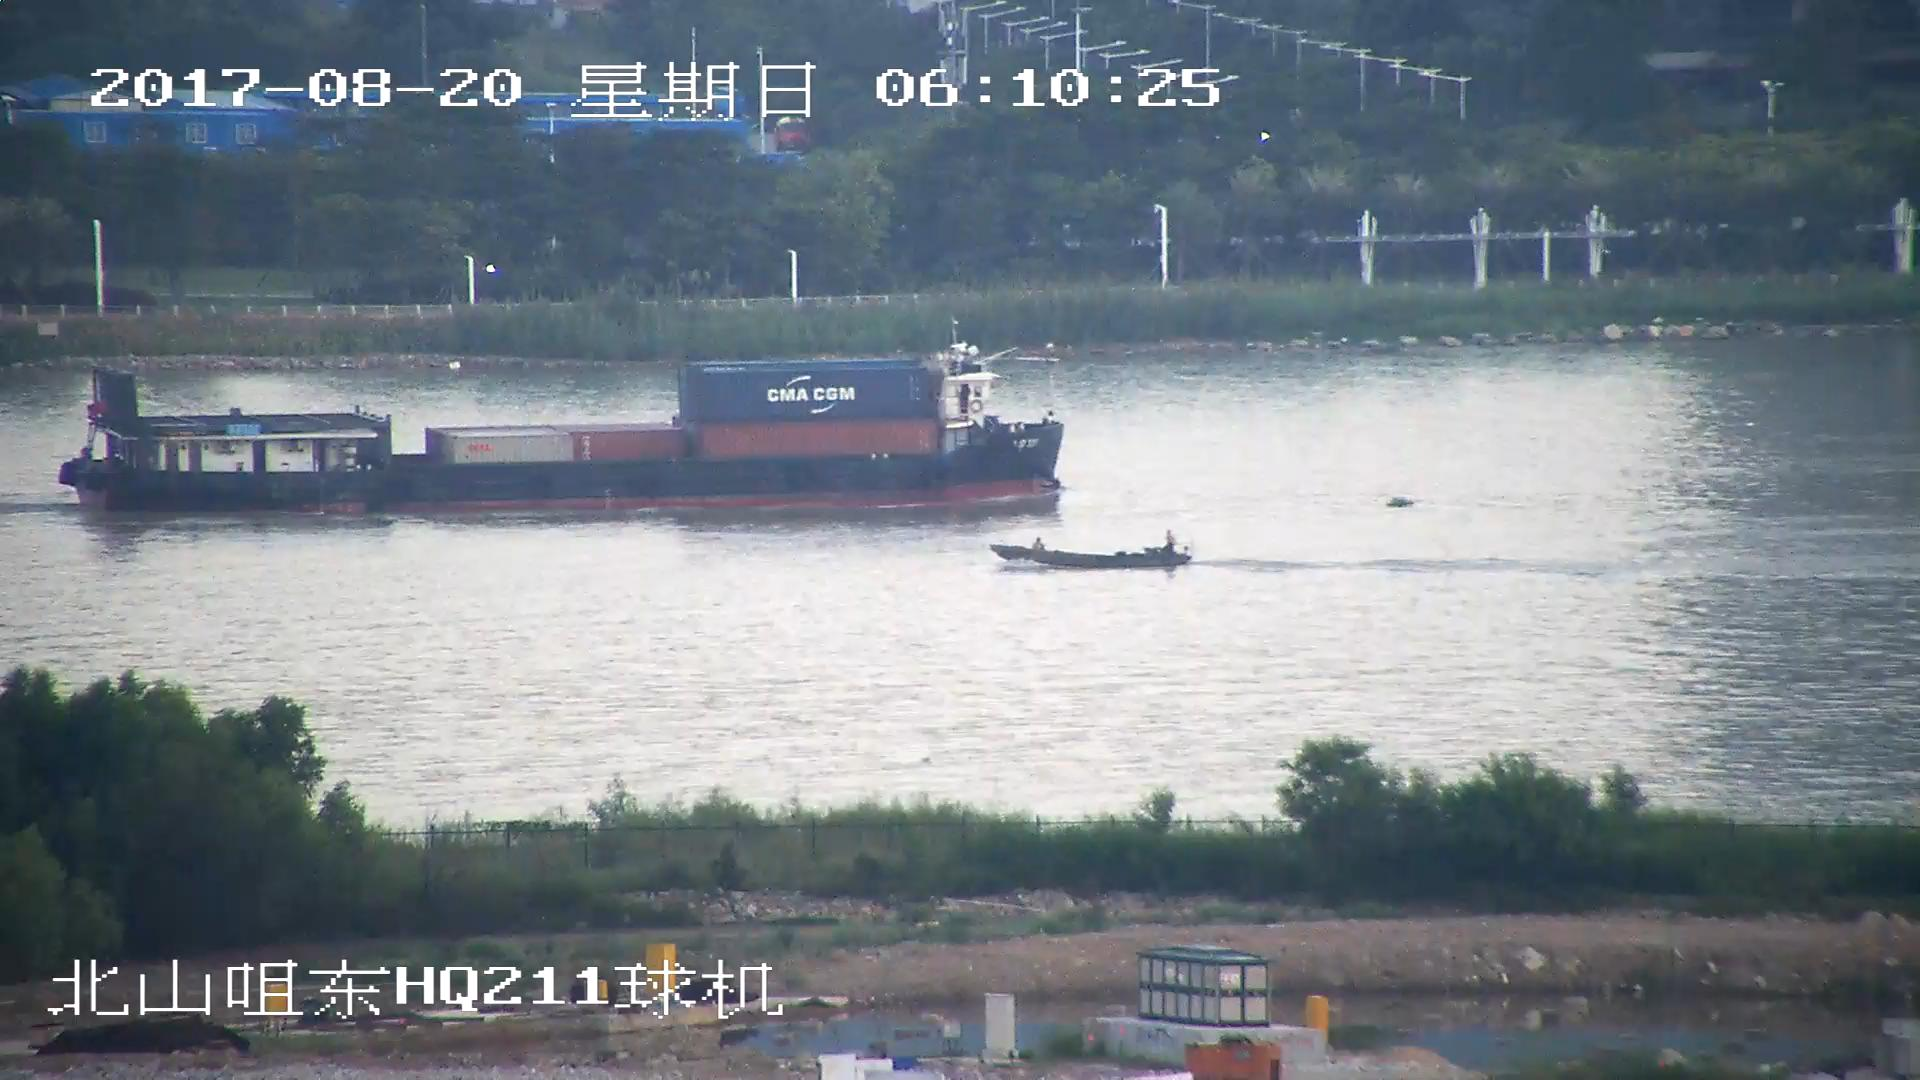container ship: (59, 329, 1064, 509)
fishing boat: (992, 529, 1192, 573)
